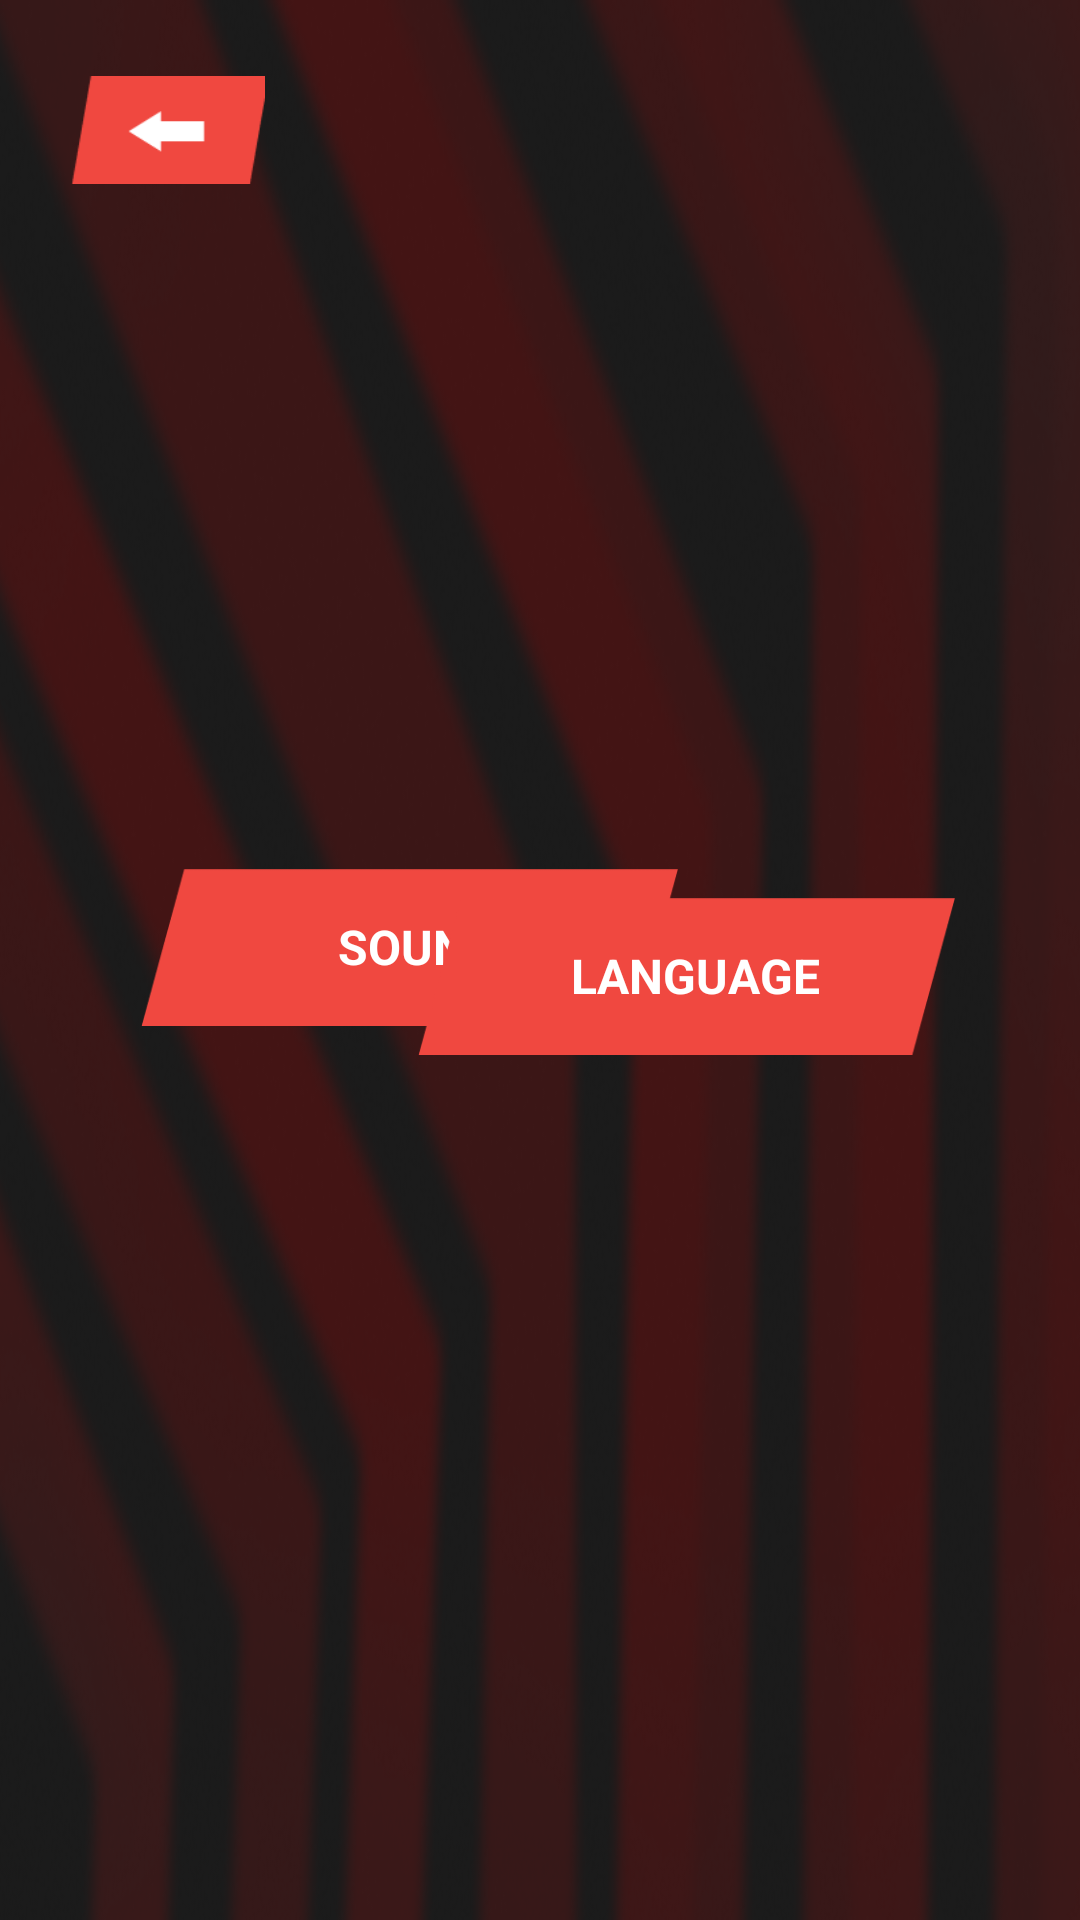

Icons on this 1080x1920 Android screen, each with its box as (x1, y1, x2, y2):
back: (72, 76, 265, 184)
